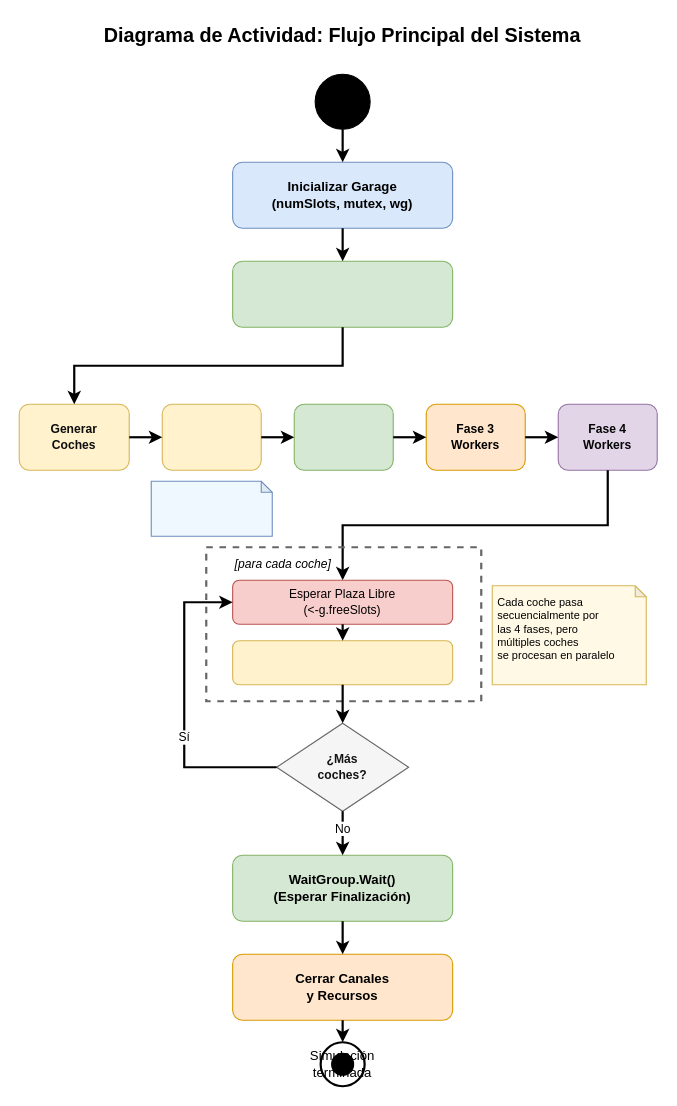
The diagram is 677 pixels wide and 1106 high, and some of its shapes have lost their labels. The box of each missing label's shape, as (x1, y1, x2, y2) in pixels:
Fase 1 Workers: (161, 403, 261, 470)
Fase 2 Workers: (293, 403, 393, 470)
Fork: Inicio de ejecución paralela: (150, 480, 272, 536)
Lanzar Workers de las 4 Fases: (232, 260, 453, 327)
Procesar Coche (4 Fases Secuenciales): (232, 640, 453, 685)
